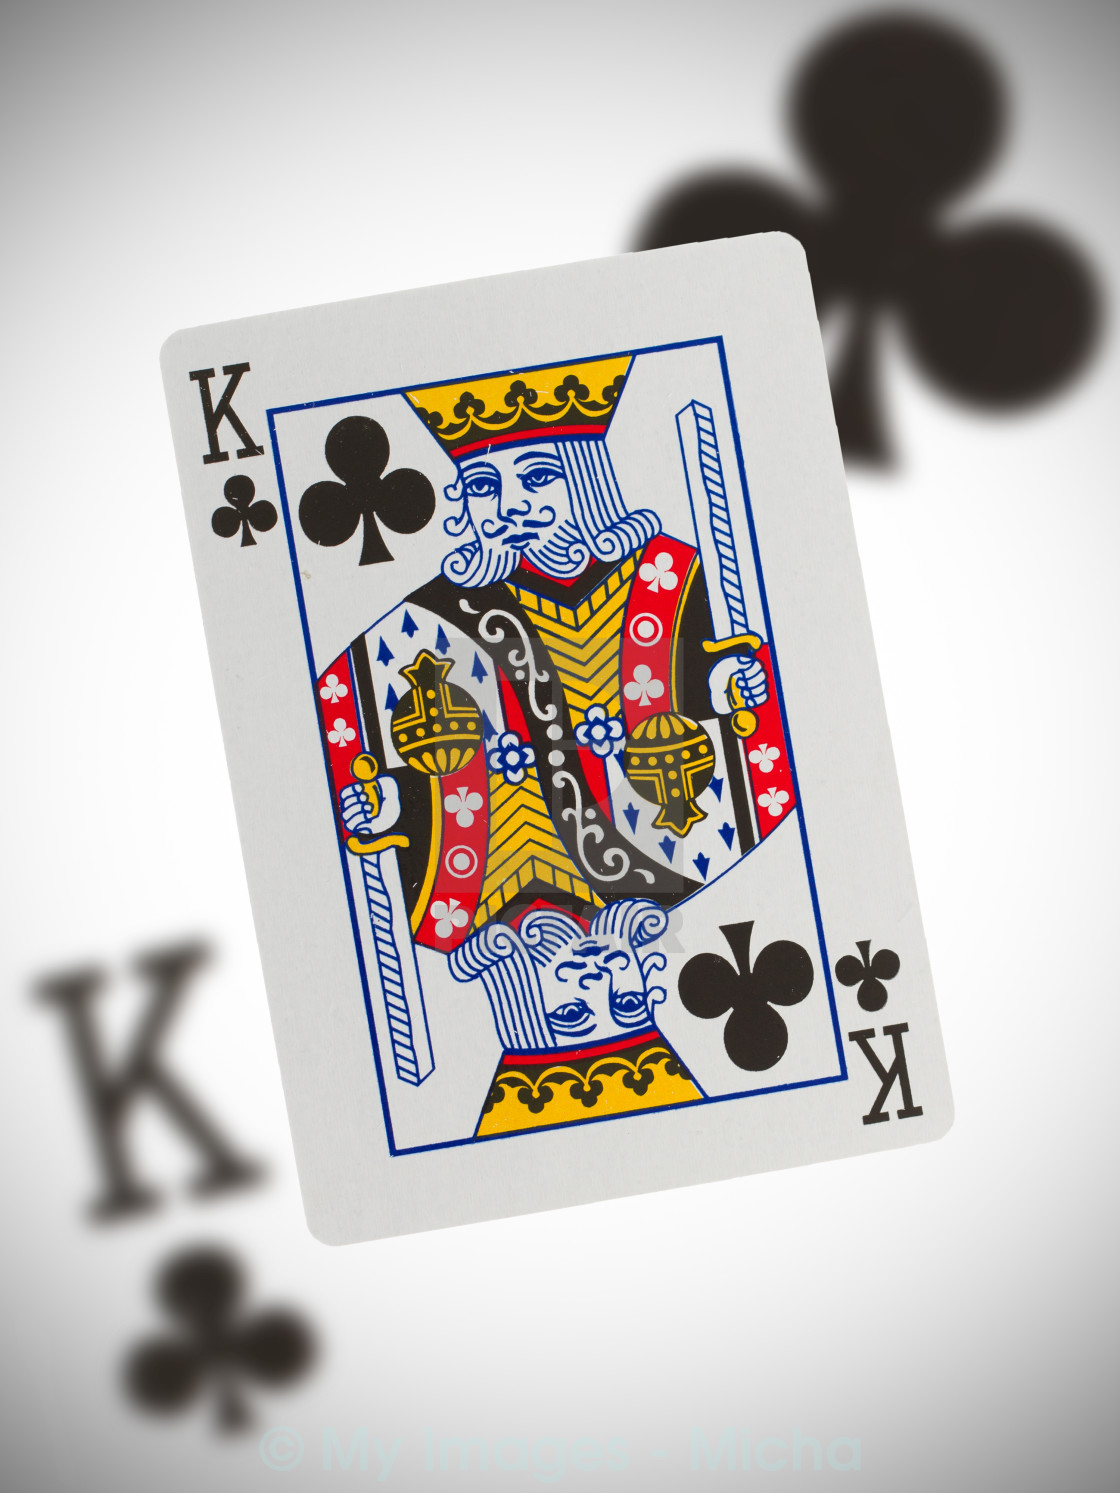king of clubs: (160, 225, 958, 1249)
